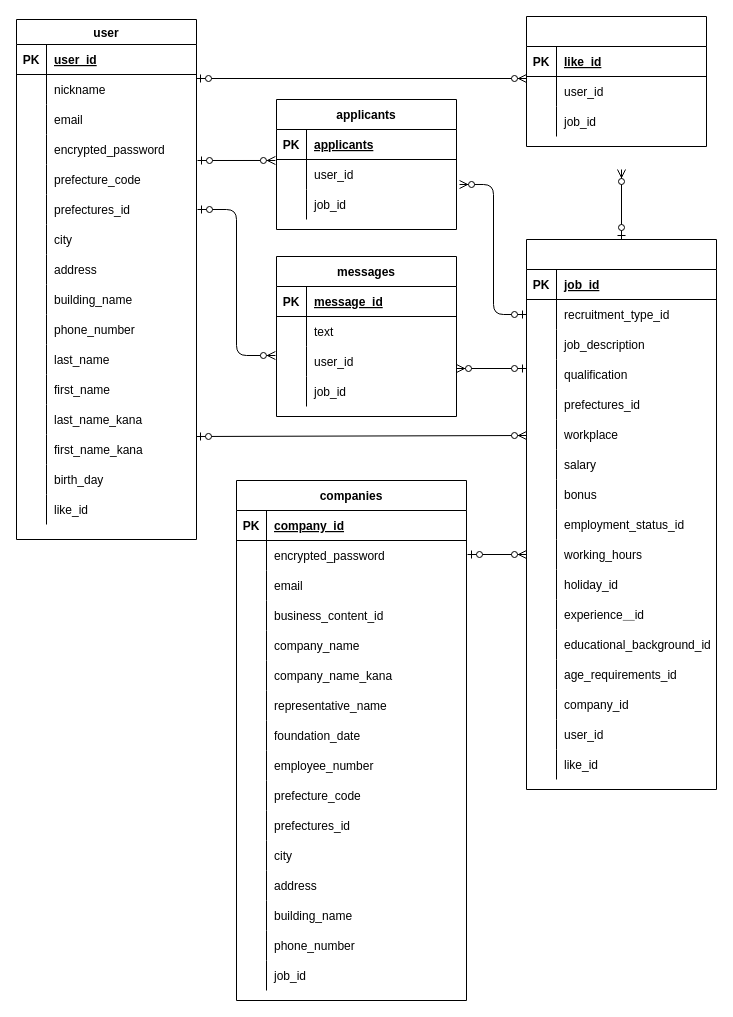
The diagram is 733 pixels wide and 1017 high, and some of its shapes have lost their labels. Here are the shapes that lost their labels. From the top down, the box of each, then its label:
(526, 16, 706, 146): likes
(526, 238, 716, 790): jobs
